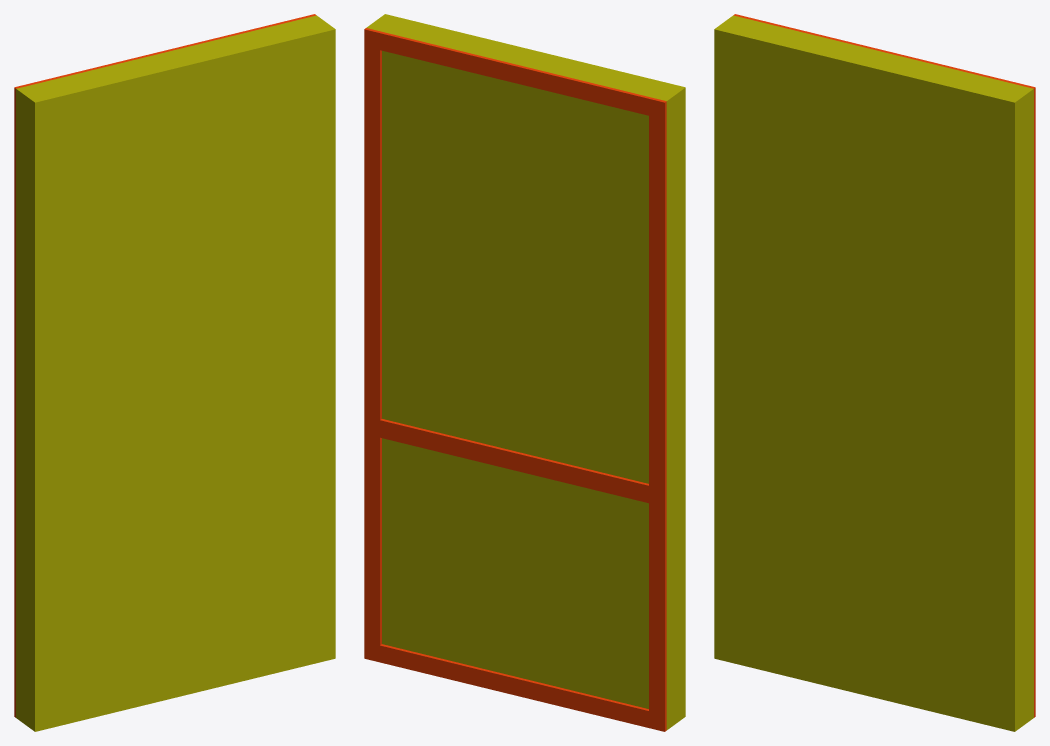
Rendered from Hanger_Door_low.fbx.
3 renders of one model, left to right at view 1: azimuth 30°, elevation 25°; view 2: azimuth 150°, elevation 25°; view 3: azimuth 330°, elevation 25°, orthographic.
Visible parts, largest first — view 1: Hanger_Door_low, Hanger_Door_Edge_low; view 2: Hanger_Door_low, Hanger_Door_Edge_low; view 3: Hanger_Door_low, Hanger_Door_Edge_low.
Boxes of the visible parts, bbox=[...] form: Hanger_Door_low: bbox=[16, 15, 335, 731]; Hanger_Door_Edge_low: bbox=[14, 14, 316, 717]; Hanger_Door_low: bbox=[366, 14, 685, 730]; Hanger_Door_Edge_low: bbox=[364, 28, 666, 731]; Hanger_Door_low: bbox=[714, 15, 1033, 731]; Hanger_Door_Edge_low: bbox=[733, 14, 1035, 717].
Size of the model in its own units: 180 by 360 by 21.71.
